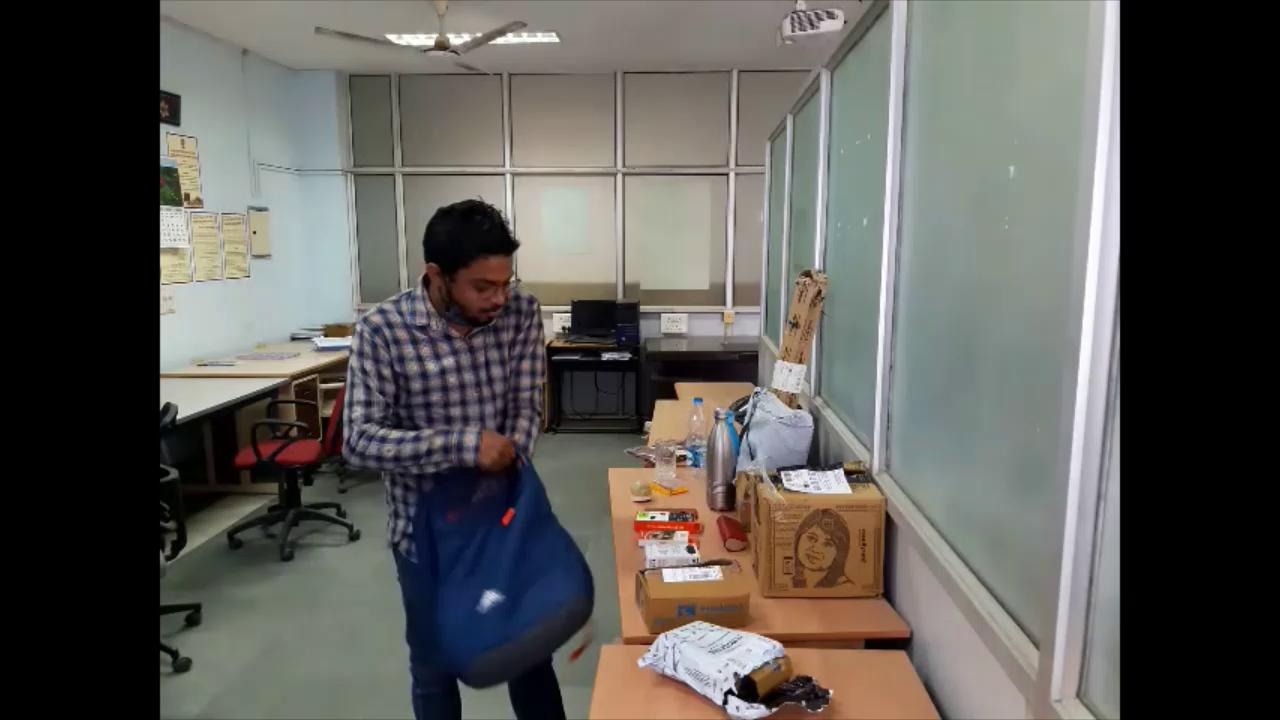shoplifting: (330, 184, 601, 719)
